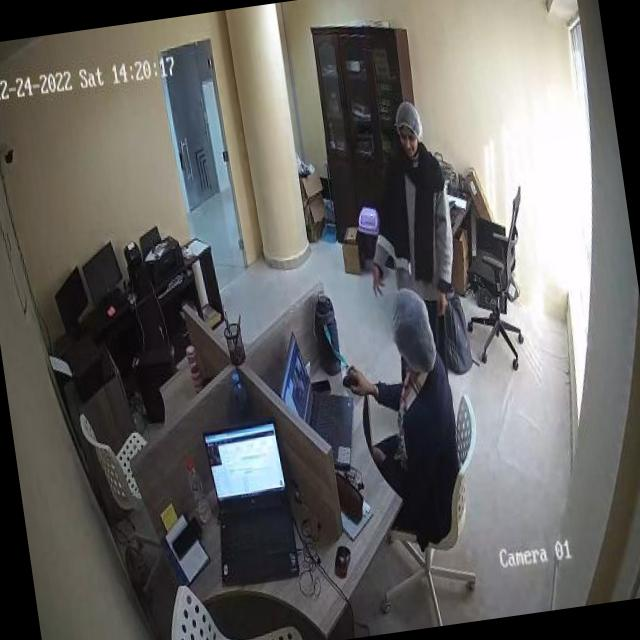hairnet: (390, 288, 437, 370), (396, 100, 424, 143)
